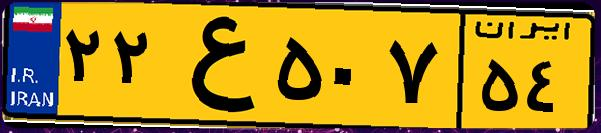0: (330, 28, 385, 110)
2: (57, 26, 110, 100), (110, 28, 158, 98)
4: (525, 38, 570, 115)
5: (270, 28, 330, 110), (475, 38, 525, 113)
7: (385, 28, 445, 110)
ع: (158, 12, 270, 120)
